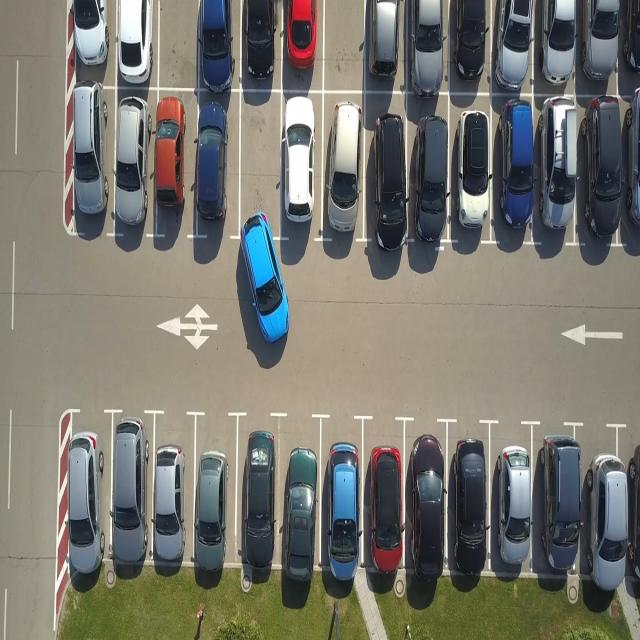space-empty: (238, 92, 285, 234), (322, 0, 370, 91), (158, 0, 202, 87)
space-occupied: (578, 434, 636, 608), (57, 409, 111, 583), (534, 426, 590, 592), (107, 410, 155, 576), (364, 91, 415, 245), (319, 90, 368, 249), (572, 103, 626, 246), (320, 416, 366, 583), (236, 413, 284, 572), (360, 412, 404, 584), (192, 88, 242, 239), (404, 417, 450, 581), (147, 411, 194, 570), (277, 414, 322, 580), (488, 101, 540, 242), (64, 86, 114, 232), (192, 411, 238, 569), (447, 420, 494, 574), (153, 88, 199, 244), (488, 423, 534, 578), (534, 100, 583, 242), (406, 95, 453, 243), (451, 103, 499, 246), (278, 91, 322, 245), (113, 87, 156, 236), (572, 0, 622, 94), (447, 0, 497, 91), (488, 2, 536, 96), (533, 2, 581, 96), (403, 0, 451, 92), (66, 0, 114, 85), (280, 0, 325, 90), (240, 0, 286, 88), (197, 0, 242, 88), (361, 0, 405, 90), (115, 0, 161, 85), (619, 98, 640, 245), (617, 0, 640, 94)
